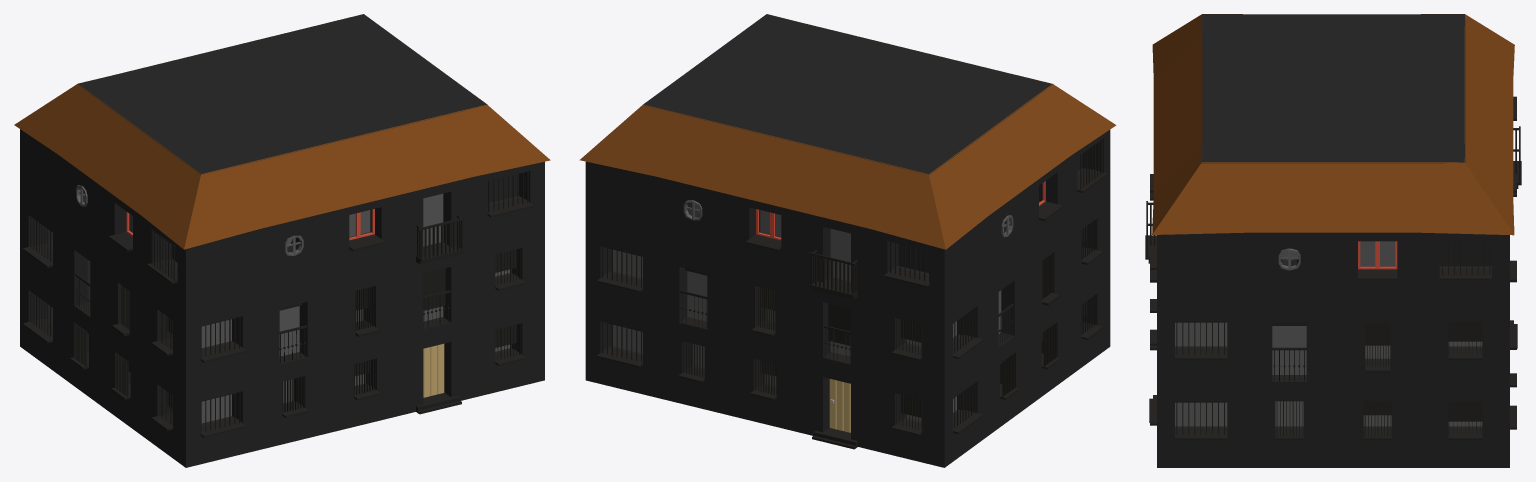
Rendered from Casa_Procedural_8.fbx.
3 views of the same model, side by side, from view 1: azimuth 30°, elevation 25°; view 2: azimuth 150°, elevation 25°; view 3: azimuth 270°, elevation 25° (orthographic). The views are drawn at different scales.
Visible parts, largest first — view 1: 8; view 2: 8; view 3: 8.
Part boxes in pixels (box(x1,y1,x2,y2)): 8: box(14, 14, 550, 467); 8: box(579, 14, 1116, 467); 8: box(1145, 14, 1521, 467).
Bounding box in the file's own units: 516 × 359 × 427.
